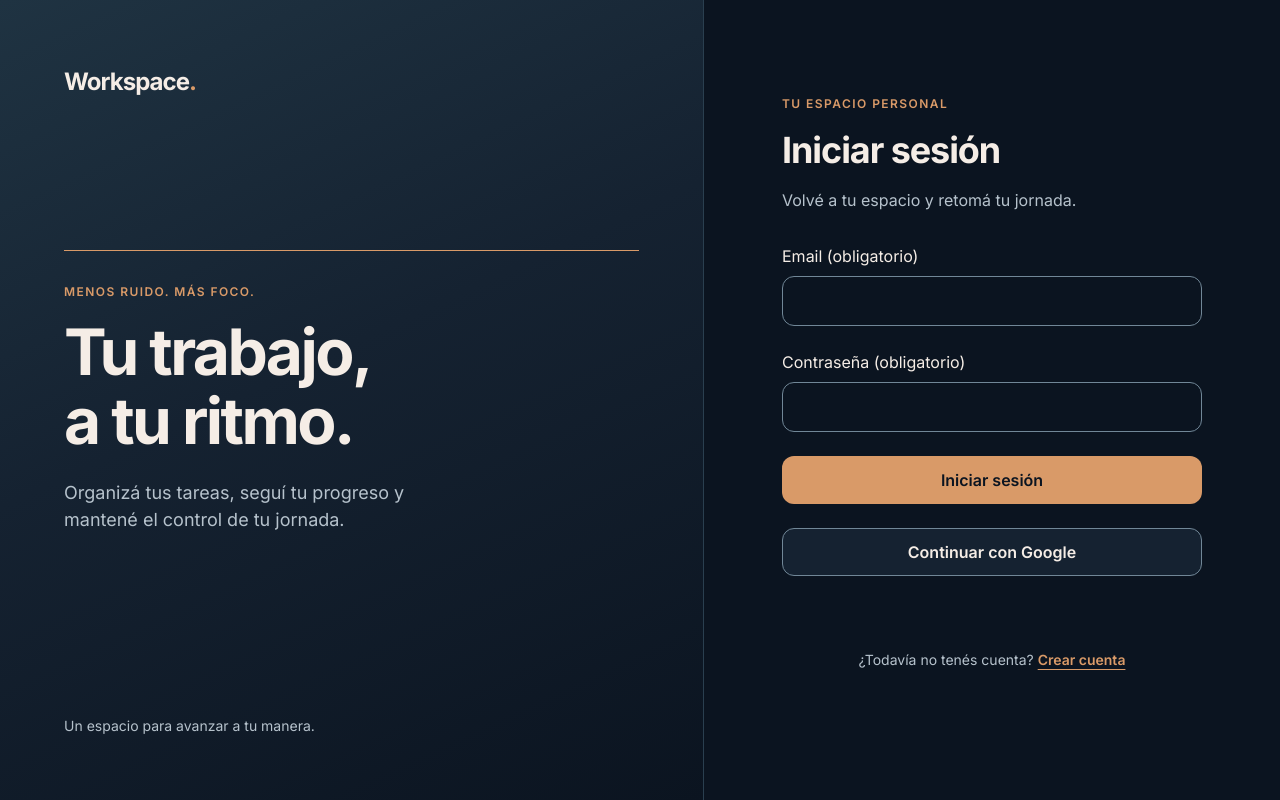
Test case: Interfaz de autenticación › envía /login al servicio y presenta un fallo de conexión sin redirigir
Type "persona@example.com" into the field labelled "Email (obligatorio)".
click(992, 301); type("persona@example.com")  # box left=782, top=276, right=1202, bottom=326
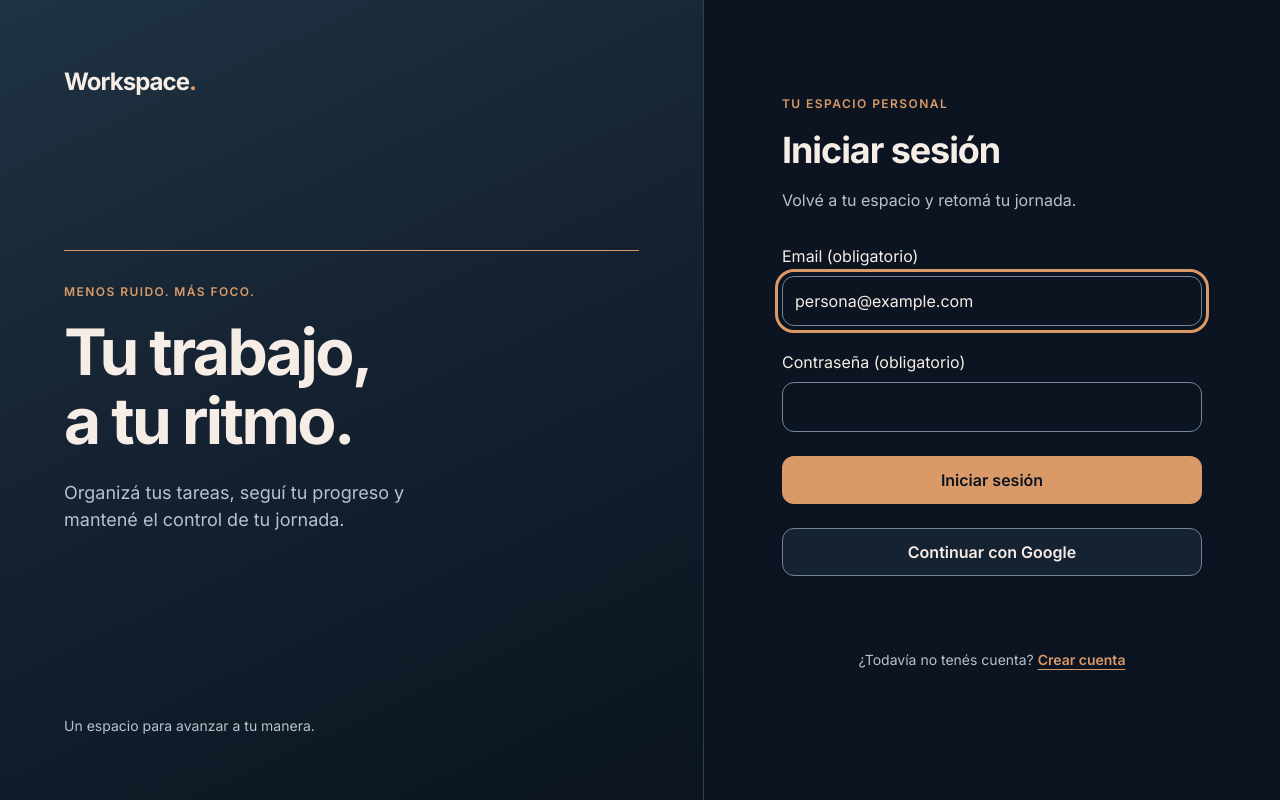
Type "clave-larga" into the password field labelled "Contraseña (obligatorio)".
click(992, 407); type("clave-larga")  # box left=782, top=382, right=1202, bottom=432
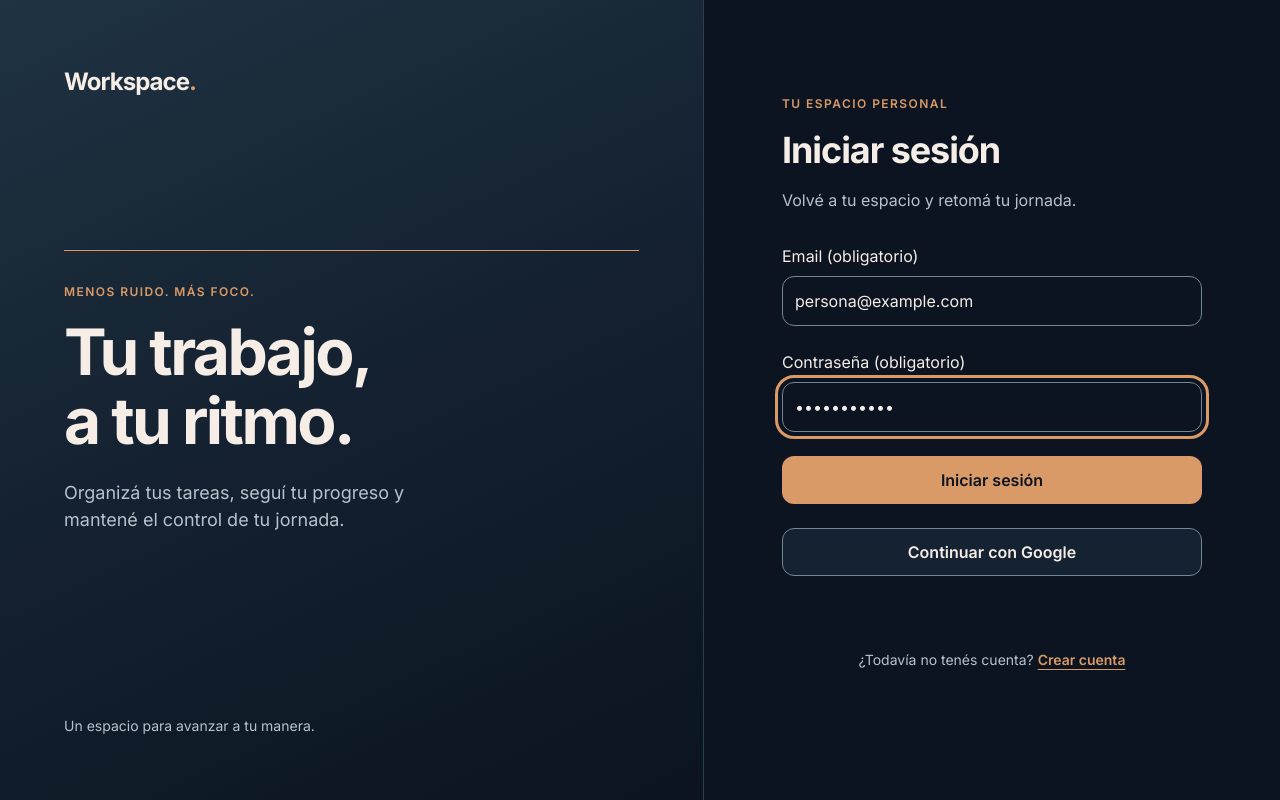
Click the button "Iniciar sesión".
click(992, 480)  # box left=782, top=456, right=1202, bottom=504
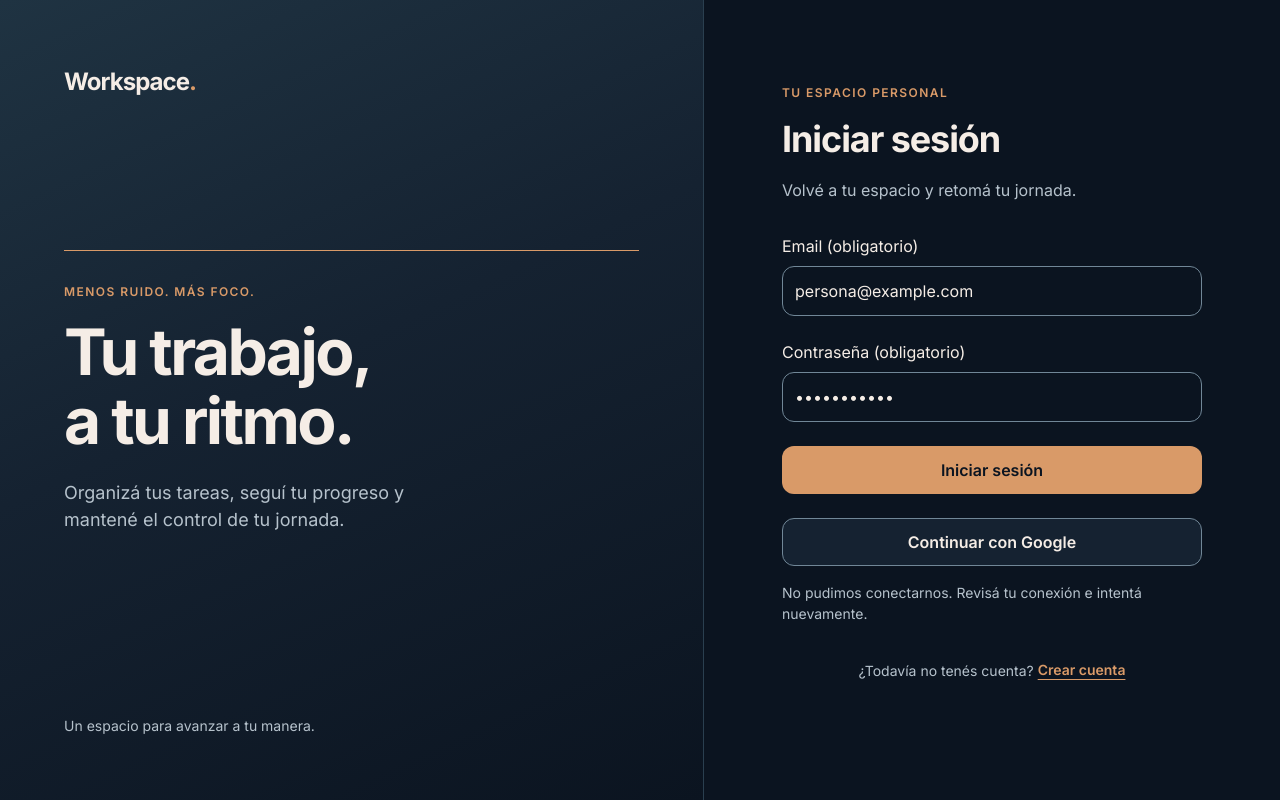
Expected: the heading "Iniciar sesión" is shown, left=782, top=117, right=1000, bottom=161
Expected: the text "No pudimos conectarnos. Revisá tu conexión e intentá nuevamente." is shown, left=782, top=582, right=1202, bottom=624
